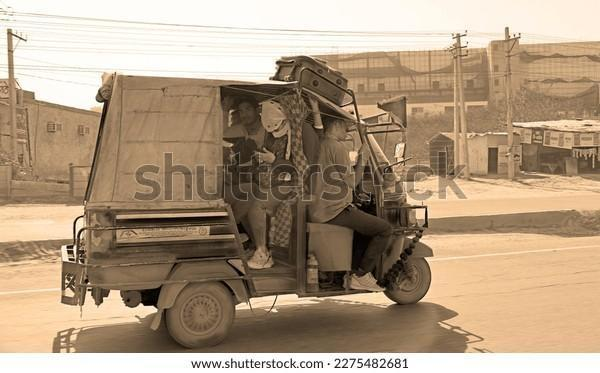keke: (48, 61, 438, 352)
